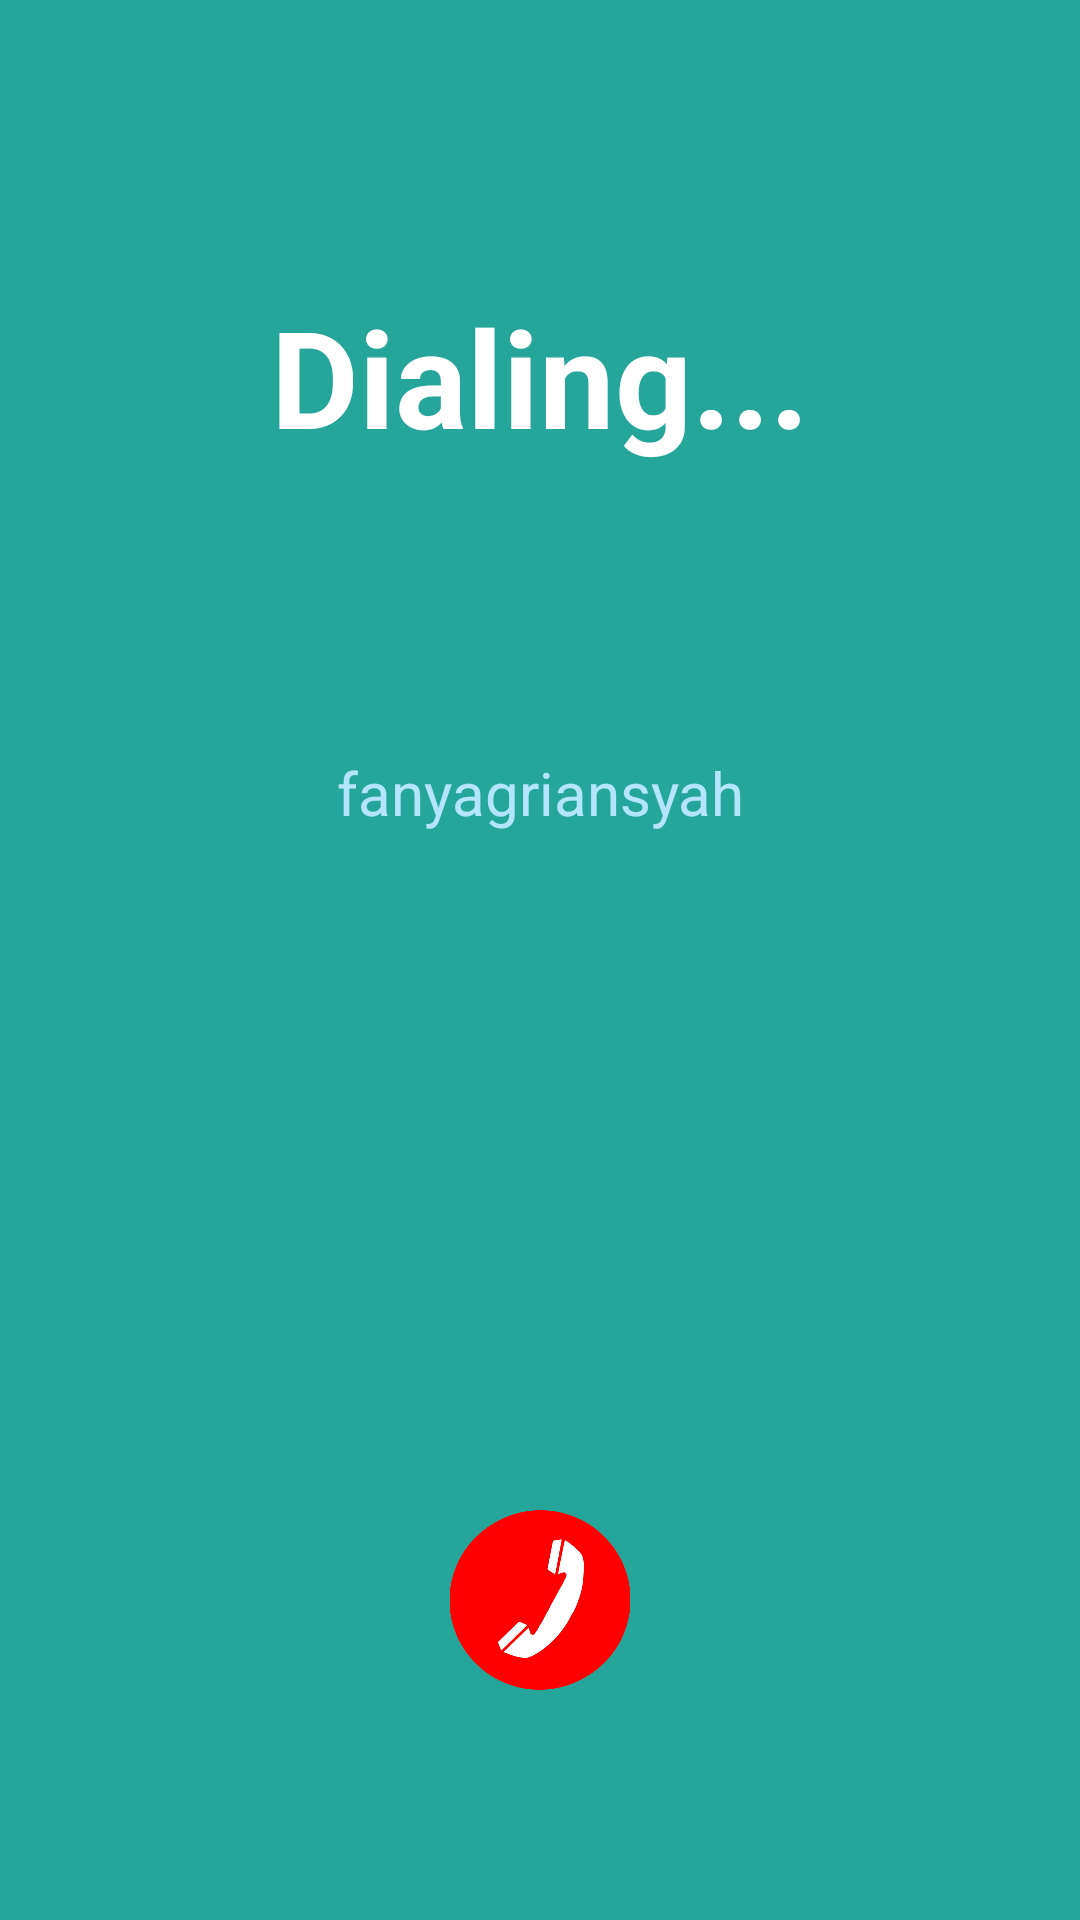

Screen size 1080 × 1920. Icon name, then its box in pixels as (left=x1, top=y1, right=x2, bottom=y2):
end: (left=450, top=1510, right=630, bottom=1690)
